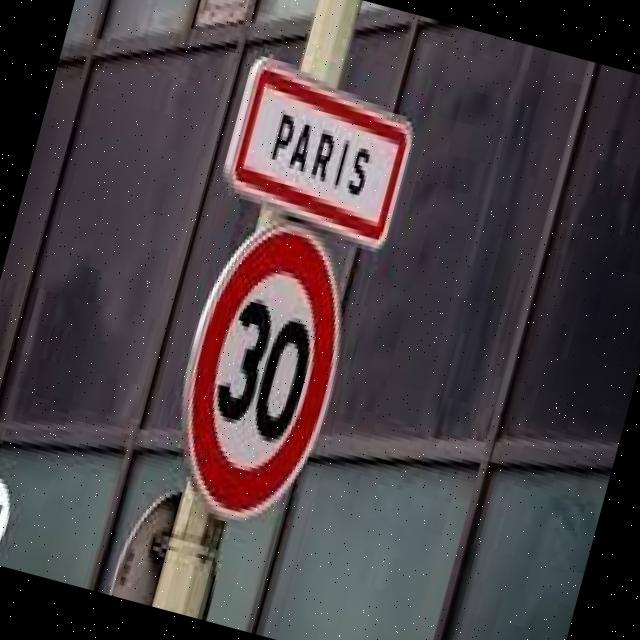speed_limit_30: (147, 202, 382, 553)
